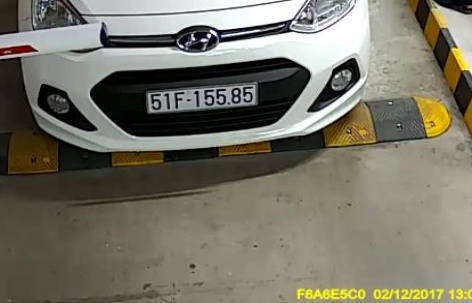plate: (137, 83, 269, 118)
